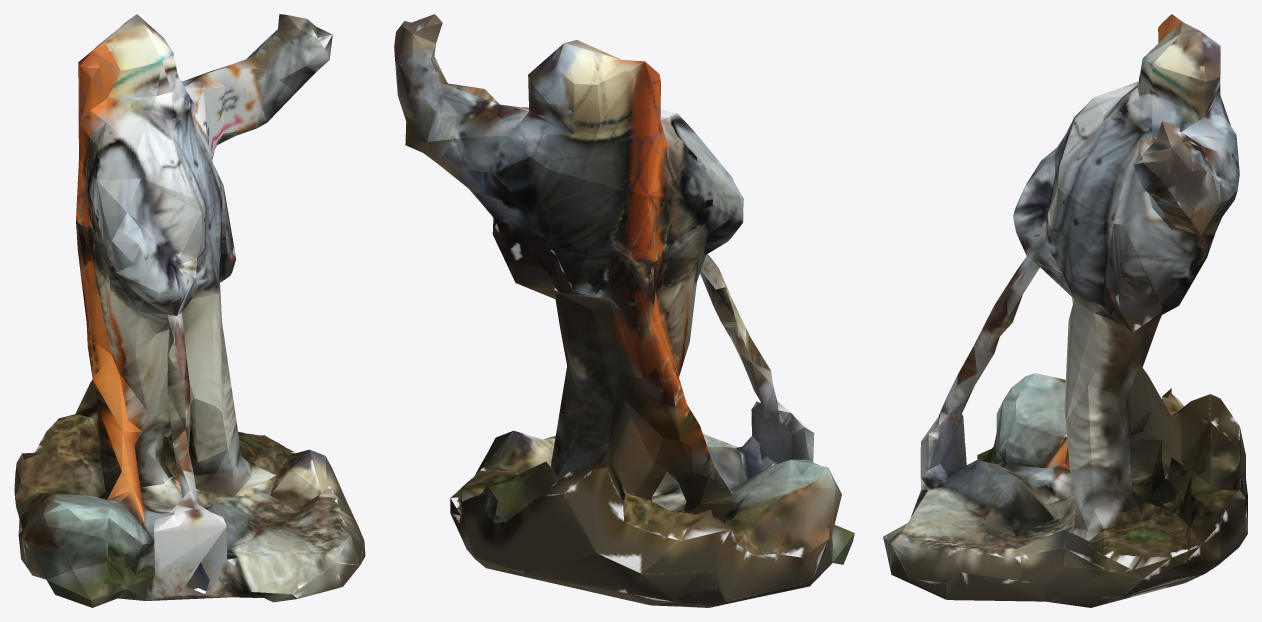
Rendered from kakashi_23b.fbx.
3 renders of one model, left to right at view 1: azimuth 30°, elevation 25°; view 2: azimuth 150°, elevation 25°; view 3: azimuth 270°, elevation 25°, orthographic. The views are drawn at different scales.
Visible parts, largest first — view 1: kakashi_23:Mesh; view 2: kakashi_23:Mesh; view 3: kakashi_23:Mesh.
Part boxes in pixels (bbox=[...]): kakashi_23:Mesh: bbox=[14, 14, 365, 607]; kakashi_23:Mesh: bbox=[394, 14, 854, 607]; kakashi_23:Mesh: bbox=[883, 14, 1247, 607].
Size of the model in its own units: 19.51 by 26.25 by 16.95.
1 material, 1 textured.
